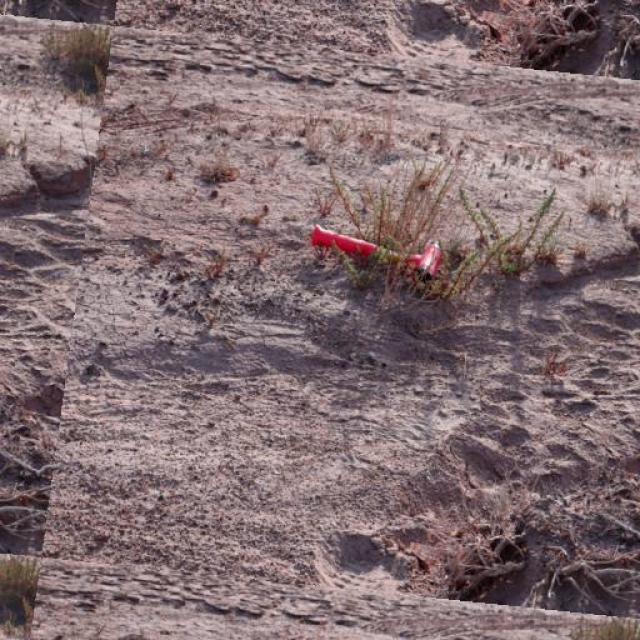mallet: (311, 222, 445, 282)
